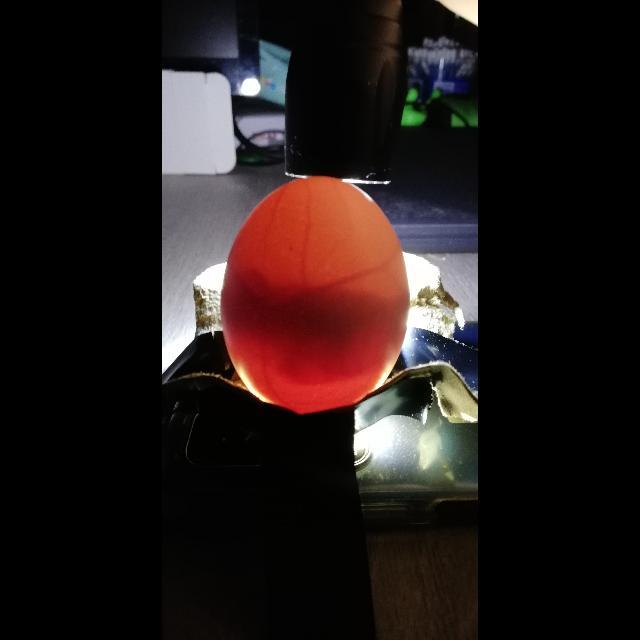Fertile: (216, 174, 410, 416)
